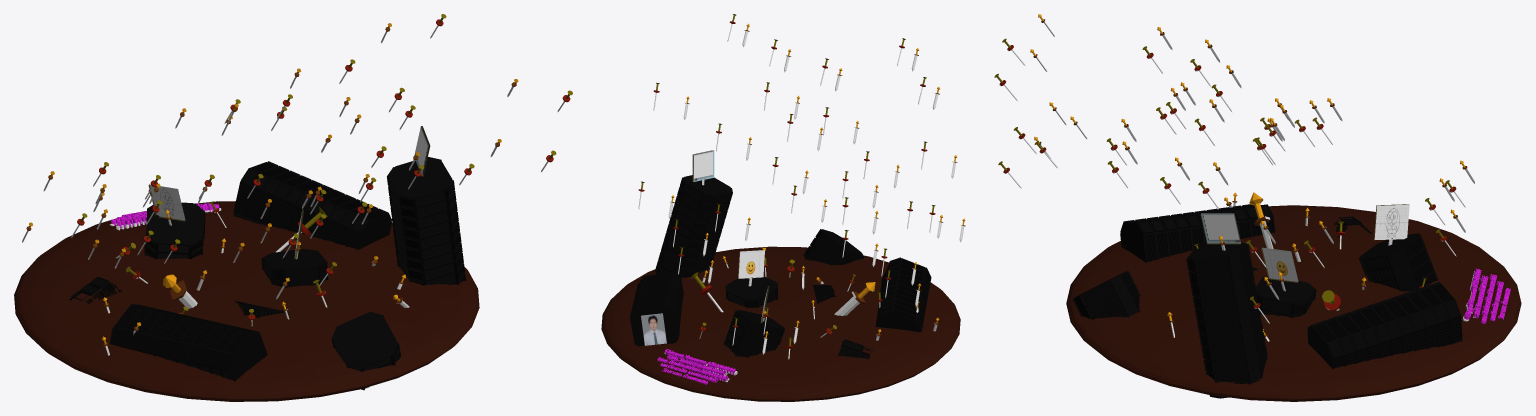
The model's file is SwordNew.glb.
The picture shows the model from 3 angles, left to right: view 1: azimuth 30°, elevation 25°; view 2: azimuth 150°, elevation 25°; view 3: azimuth 270°, elevation 25°; orthographic projection. The views are drawn at different scales.
Parts seen in each view (by area): view 1: Sphere, Plane.001, Plane.003, Plane.004, Plane.009, Plane.007, Plane.006, Cylinder.033, Cylinder.027, Cube.003, Cylinder.018, Plane.008 (+2 smaller); view 2: Sphere, Plane.001, Plane.004, Plane.003, Plane.007, Cylinder.027, Cylinder.033, Text, Plane.009, Plane.006, Cube.001, Cylinder.018 (+4 smaller); view 3: Sphere, Plane.001, Plane.003, Plane.004, Plane.007, Plane.009, Cylinder.027, Cylinder.033, Plane.006, Text, Cube.003, Cube.005 (+3 smaller).
Boxes of the visible parts, box(x1,y1,x2,y2) form: Sphere: box(14, 201, 479, 401); Plane.001: box(387, 157, 465, 285); Plane.003: box(233, 161, 392, 249); Plane.004: box(109, 304, 267, 381); Plane.009: box(331, 311, 401, 390); Plane.007: box(144, 202, 205, 259); Plane.006: box(261, 248, 328, 287); Cylinder.033: box(95, 14, 446, 243); Cylinder.027: box(22, 99, 415, 268); Cube.003: box(148, 184, 185, 225); Cylinder.018: box(302, 79, 572, 223); Plane.008: box(69, 276, 122, 303); Sphere: box(601, 246, 960, 401); Plane.001: box(655, 175, 732, 278); Plane.004: box(875, 257, 931, 332); Plane.003: box(629, 272, 683, 346); Plane.007: box(723, 310, 784, 357); Cylinder.027: box(638, 181, 965, 354); Cylinder.033: box(653, 82, 957, 266); Text: box(657, 349, 735, 384); Plane.009: box(803, 229, 864, 265); Plane.006: box(725, 276, 778, 307); Cube.001: box(738, 249, 764, 286); Cylinder.018: box(727, 14, 939, 109); Sphere: box(1066, 205, 1521, 401); Plane.001: box(1186, 242, 1268, 398); Plane.003: box(1307, 281, 1462, 369); Plane.004: box(1120, 204, 1275, 262); Plane.007: box(1358, 233, 1438, 291); Plane.009: box(1073, 271, 1140, 319); Cylinder.027: box(1160, 82, 1474, 323); Cylinder.033: box(1106, 27, 1324, 187); Plane.006: box(1255, 276, 1316, 318); Text: box(1464, 268, 1510, 323); Cube.003: box(1374, 204, 1409, 245); Cube.005: box(1200, 213, 1240, 250).
Bounding box in the file's own units: 25.65 × 18.39 × 29.7.
Materials: 14 (4 with a texture image).
